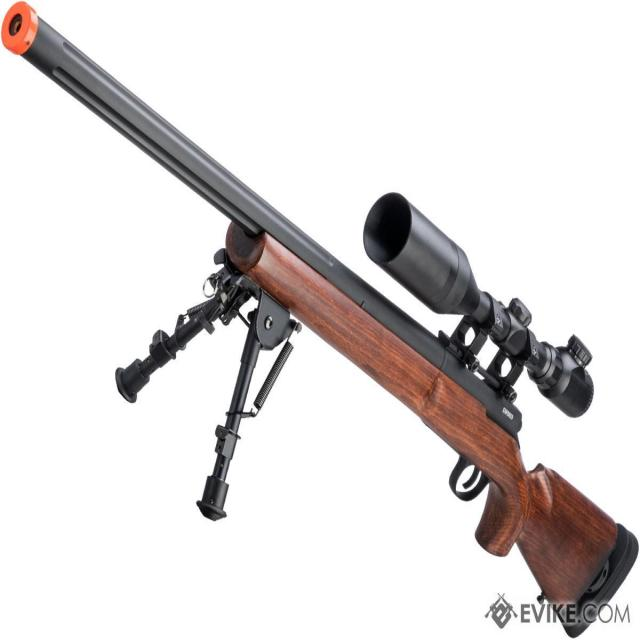Gun: (4, 4, 639, 640)
